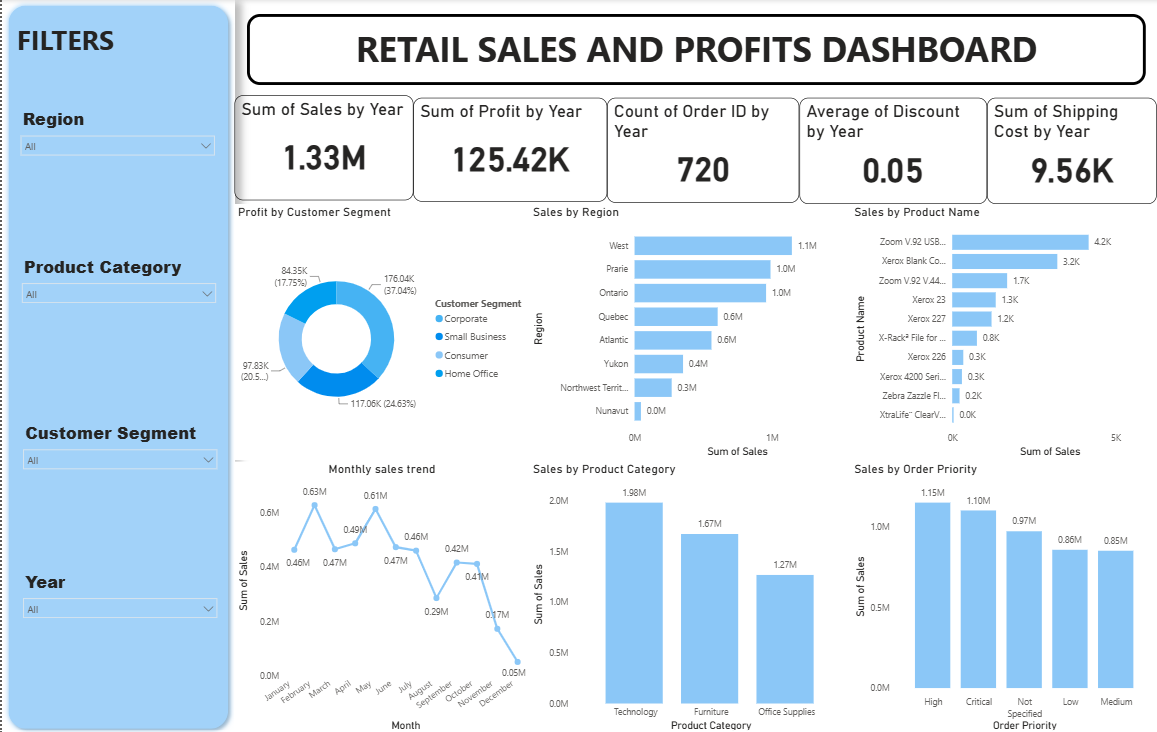

The page's visual inventory and layout, read from the dashboard file:
{"tool":"powerbi","page":{"name":"Page 2","canvas":[1600,1020],"ordinal":0},"visuals":[{"type":"shape","box":[0,0,322.2,1020.4],"z":0},{"type":"textbox","box":[15.6,26,289.3,62.4],"z":1000},{"type":"slicer","fields":{"Values":["Raw Data.Region"]},"box":[15.6,145.5,289.3,90.1],"z":2000},{"type":"slicer","fields":{"Values":["Raw Data.Product Category"]},"box":[17.3,349.9,289.3,88.3],"z":3000},{"type":"slicer","fields":{"Values":["Raw Data.Customer Segment"]},"box":[19.1,580.3,289.3,90.1],"z":4000},{"type":"slicer","fields":{"Values":["Raw Data.Order Date.Variation.Date Hierarchy.Year"]},"box":[19.1,786.5,289.3,142.1],"z":5000},{"type":"kpi","fields":{"Indicator":["Sum(Raw Data.Sales)"],"TrendLine":["Raw Data.Order Date.Variation.Date Hierarchy.Year"]},"box":[322.2,133.4,247.7,145.5],"z":6000},{"type":"kpi","fields":{"Indicator":["Sum(Raw Data.Profit)"],"TrendLine":["Raw Data.Order Date.Variation.Date Hierarchy.Year"]},"box":[569.9,136.9,268.5,143.8],"z":7000},{"type":"kpi","fields":{"Indicator":["CountNonNull(Raw Data.Order ID)"],"TrendLine":["Raw Data.Order Date.Variation.Date Hierarchy.Year"]},"box":[838.5,136.9,266.8,145.5],"z":8000},{"type":"kpi","fields":{"Indicator":["Sum(Raw Data.Shipping Cost)"],"TrendLine":["Raw Data.Order Date.Variation.Date Hierarchy.Year"]},"box":[1365.1,136.9,235.6,147.2],"z":9000},{"type":"kpi","fields":{"Indicator":["Avg(Raw Data.Discount)"],"TrendLine":["Raw Data.Order Date.Variation.Date Hierarchy.Year"]},"box":[1105.2,136.9,259.9,147.2],"z":10000},{"type":"lineChart","title":"Monthly sales trend","fields":{"Category":["Raw Data.Order Date.Variation.Date Hierarchy.Month"],"Y":["Sum(Raw Data.Sales)"]},"box":[322.2,641,408.8,379.4],"z":11000},{"type":"clusteredColumnChart","title":" Sales by Product Category","fields":{"Category":["Raw Data.Product Category"],"Y":["Sum(Raw Data.Sales)"]},"box":[731.1,641,445.2,379.4],"z":12000},{"type":"donutChart","title":"Profit by Customer Segment","fields":{"Category":["Raw Data.Customer Segment"],"Y":["Sum(Raw Data.Profit)"]},"box":[322.2,284.1,408.8,355.1],"z":13000},{"type":"barChart","title":" Sales by Region","fields":{"Category":["Raw Data.Region"],"Y":["Sum(Raw Data.Sales)"]},"box":[731.1,284.1,445.2,356.9],"z":14000},{"type":"barChart","title":"Sales by Product Name","fields":{"Category":["Raw Data.Product Name"],"Y":["Sum(Raw Data.Sales)"]},"box":[1176.3,284.1,424.4,356.9],"z":15000},{"type":"columnChart","title":"Sales by Order Priority","fields":{"Category":["Raw Data.Order Priority"],"Y":["Sum(Raw Data.Sales)"]},"box":[1176,641,424,379],"z":15001},{"type":"textbox","box":[339.5,20.8,1245.6,98.7],"z":15009}]}

Visuals, with their boxes in screenshot pixels (x1, y1, x2, y2), scaled from the page's 1600x1020 canvas onto the 1157x732 screenshot:
shape: x1=0 y1=0 x2=233 y2=731
textbox: x1=11 y1=19 x2=220 y2=63
slicer - Raw Data.Region: x1=11 y1=104 x2=220 y2=169
slicer - Raw Data.Product Category: x1=13 y1=251 x2=222 y2=314
slicer - Raw Data.Customer Segment: x1=14 y1=416 x2=223 y2=481
slicer - Raw Data.Order Date.Variation.Date Hierarchy.Year: x1=14 y1=564 x2=223 y2=666
kpi - Sum(Raw Data.Sales) x Raw Data.Order Date.Variation.Date Hierarchy.Year: x1=233 y1=96 x2=412 y2=200
kpi - Sum(Raw Data.Profit) x Raw Data.Order Date.Variation.Date Hierarchy.Year: x1=412 y1=98 x2=606 y2=201
kpi - CountNonNull(Raw Data.Order ID) x Raw Data.Order Date.Variation.Date Hierarchy.Year: x1=606 y1=98 x2=799 y2=203
kpi - Sum(Raw Data.Shipping Cost) x Raw Data.Order Date.Variation.Date Hierarchy.Year: x1=987 y1=98 x2=1156 y2=204
kpi - Avg(Raw Data.Discount) x Raw Data.Order Date.Variation.Date Hierarchy.Year: x1=799 y1=98 x2=987 y2=204
"Monthly sales trend" lineChart: x1=233 y1=460 x2=529 y2=731
" Sales by Product Category" clusteredColumnChart: x1=529 y1=460 x2=851 y2=731
"Profit by Customer Segment" donutChart: x1=233 y1=204 x2=529 y2=459
" Sales by Region" barChart: x1=529 y1=204 x2=851 y2=460
"Sales by Product Name" barChart: x1=851 y1=204 x2=1156 y2=460
"Sales by Order Priority" columnChart: x1=850 y1=460 x2=1156 y2=731
textbox: x1=246 y1=15 x2=1146 y2=86
